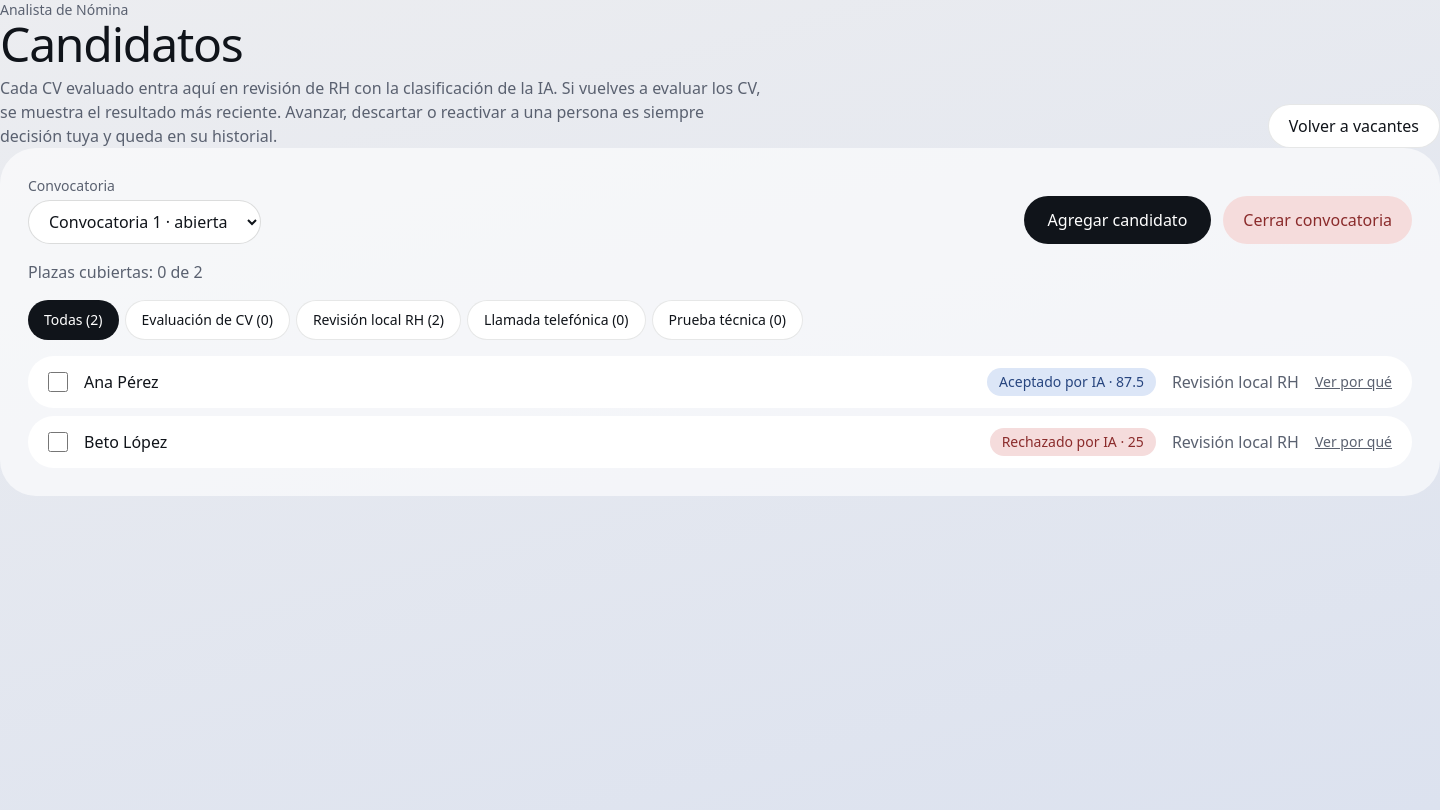
Scenario: CandidatesWorkspace › avisa cuando al expediente le faltan los datos del CV, en vez de callarlo
Step 1. Click the button "Ana Pérez" → (121, 382), box [84, 370, 971, 394]
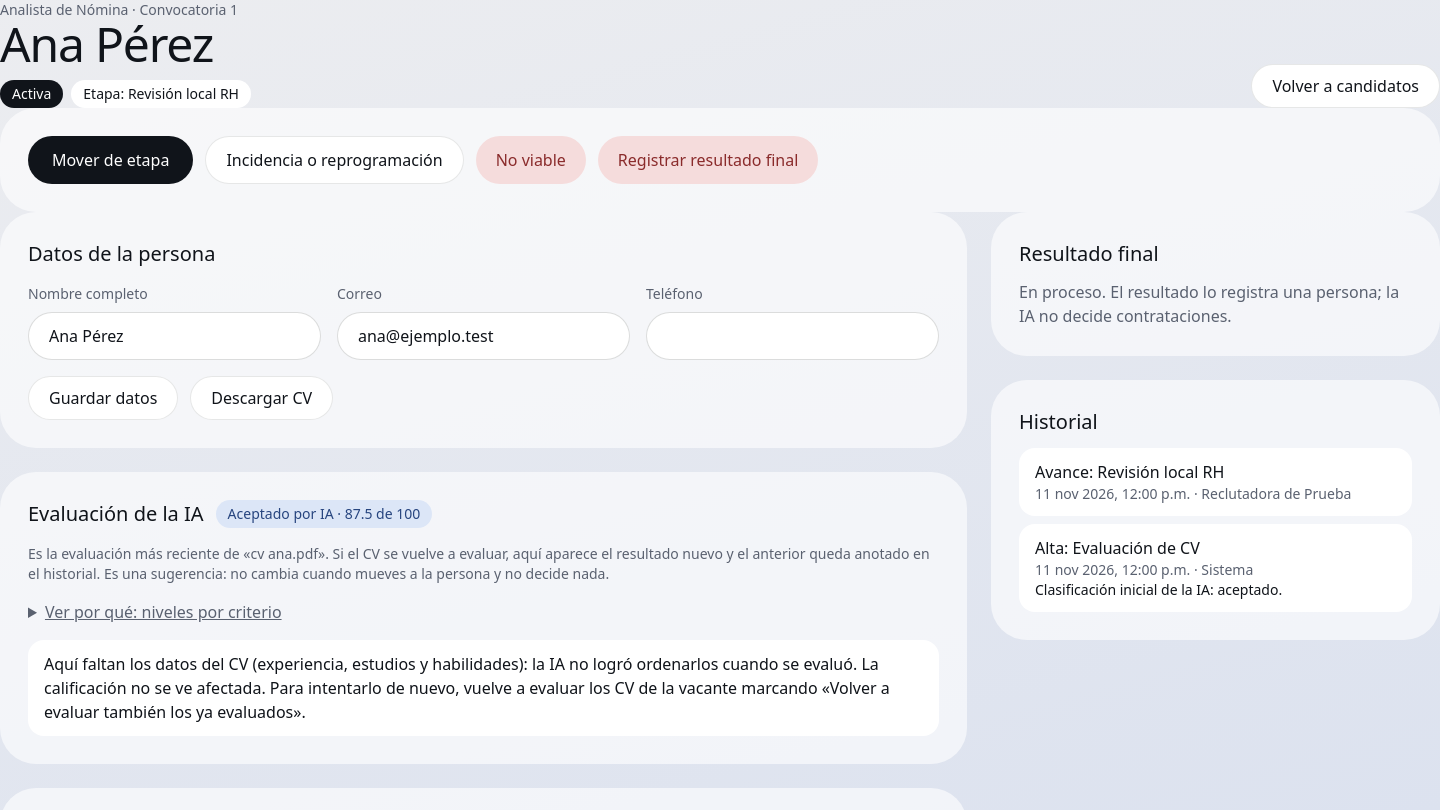
Expected: the text "Aquí faltan los datos del CV (experiencia, estudios y habilidades)" is shown, [44, 653, 528, 675]
Expected: the text "la IA no logró ordenarlos" is shown, [532, 653, 857, 675]
Expected: the text "La calificación no se ve afectada" is shown, [44, 653, 890, 723]
